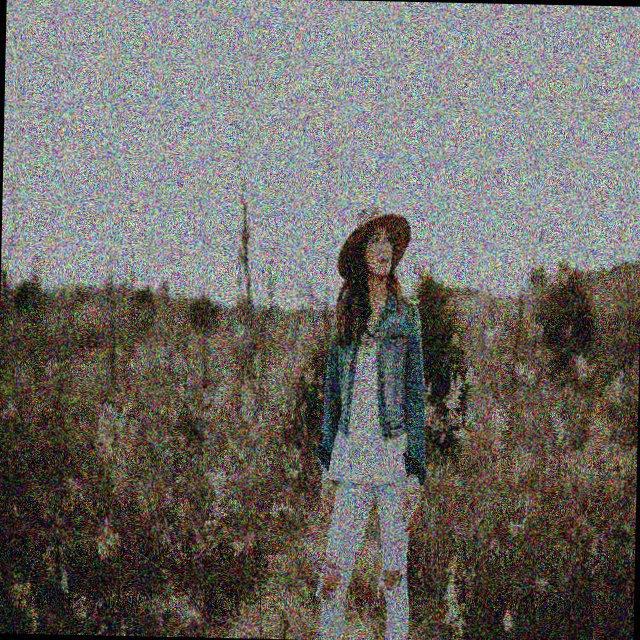ripped_pants: (319, 481, 411, 640)
